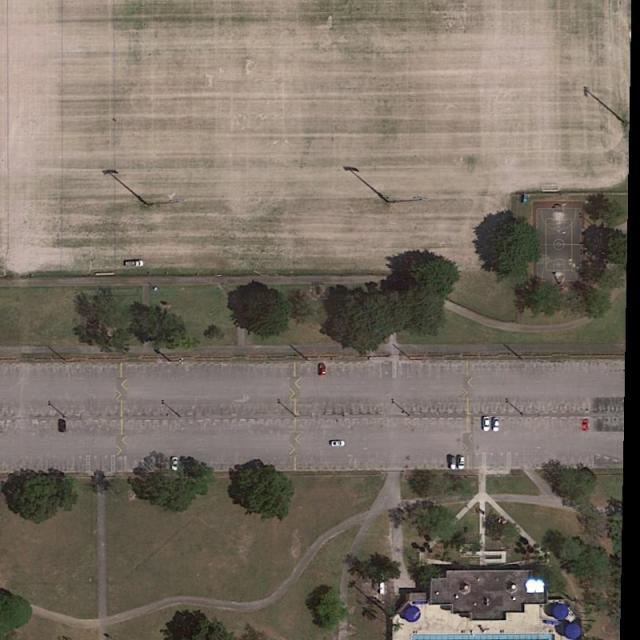vehicle: (123, 260, 144, 269), (482, 416, 491, 432), (171, 455, 180, 471), (492, 418, 501, 432), (330, 440, 345, 448), (59, 419, 67, 434), (450, 456, 458, 470), (582, 419, 590, 432), (318, 363, 326, 376), (458, 457, 466, 470)
